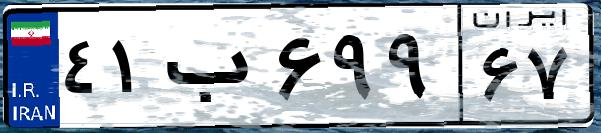1: (110, 28, 158, 98)
4: (57, 26, 110, 100)
6: (270, 28, 330, 110), (475, 38, 525, 113)
7: (525, 38, 570, 115)
9: (385, 28, 445, 110), (330, 28, 385, 110)
ب: (158, 20, 270, 120)
